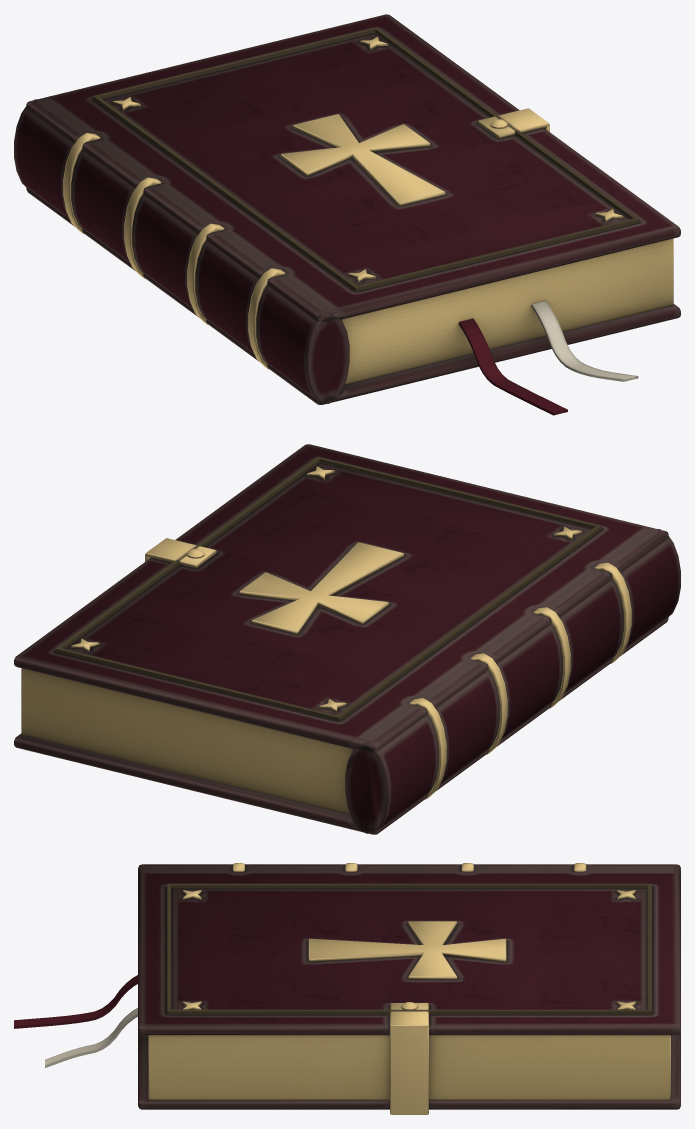
The model's file is LostHymnal.fbx.
3 views of the same model, one above another, from view 1: azimuth 30°, elevation 25°; view 2: azimuth 150°, elevation 25°; view 3: azimuth 270°, elevation 25° (orthographic). The views are drawn at different scales.
Parts seen in each view (by area): view 1: LostHymnal; view 2: LostHymnal; view 3: LostHymnal.
Boxes of the visible parts, box(x1,y1,x2,y2) form: LostHymnal: box(14, 14, 680, 415); LostHymnal: box(14, 444, 680, 834); LostHymnal: box(14, 863, 680, 1114).
Size of the model in its own units: 52.4 by 13.56 by 86.
